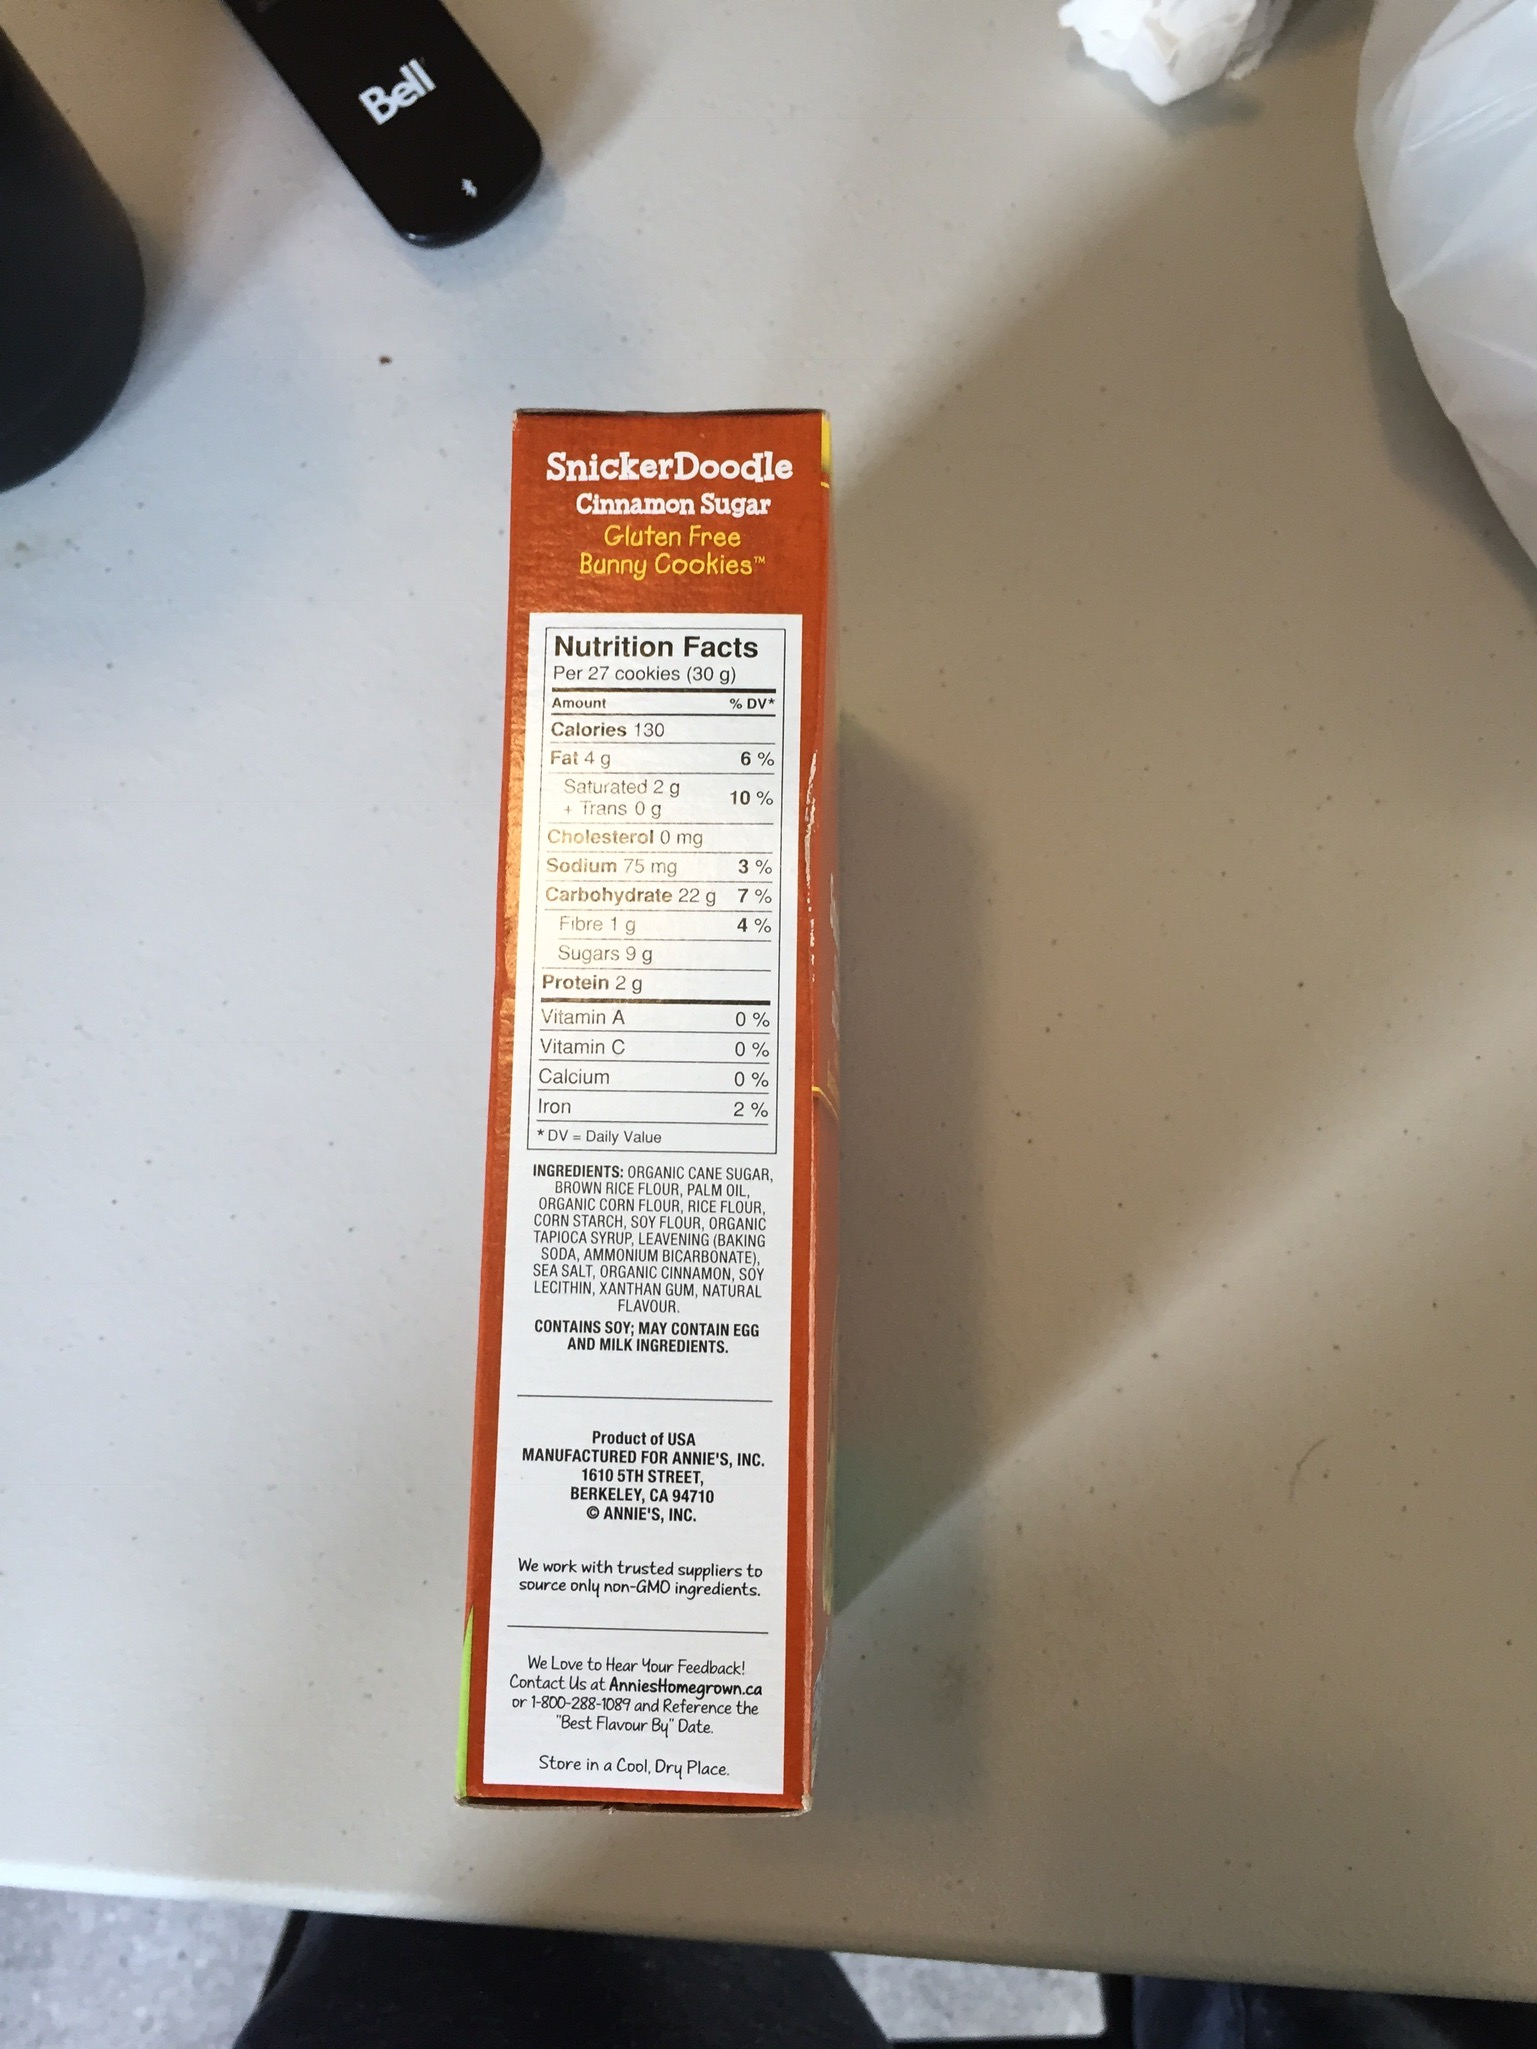annies_snickerdoodle_cinnamon_sugar: (515, 418, 802, 1805)
